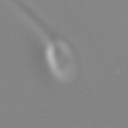normal: (8, 1, 55, 41)
